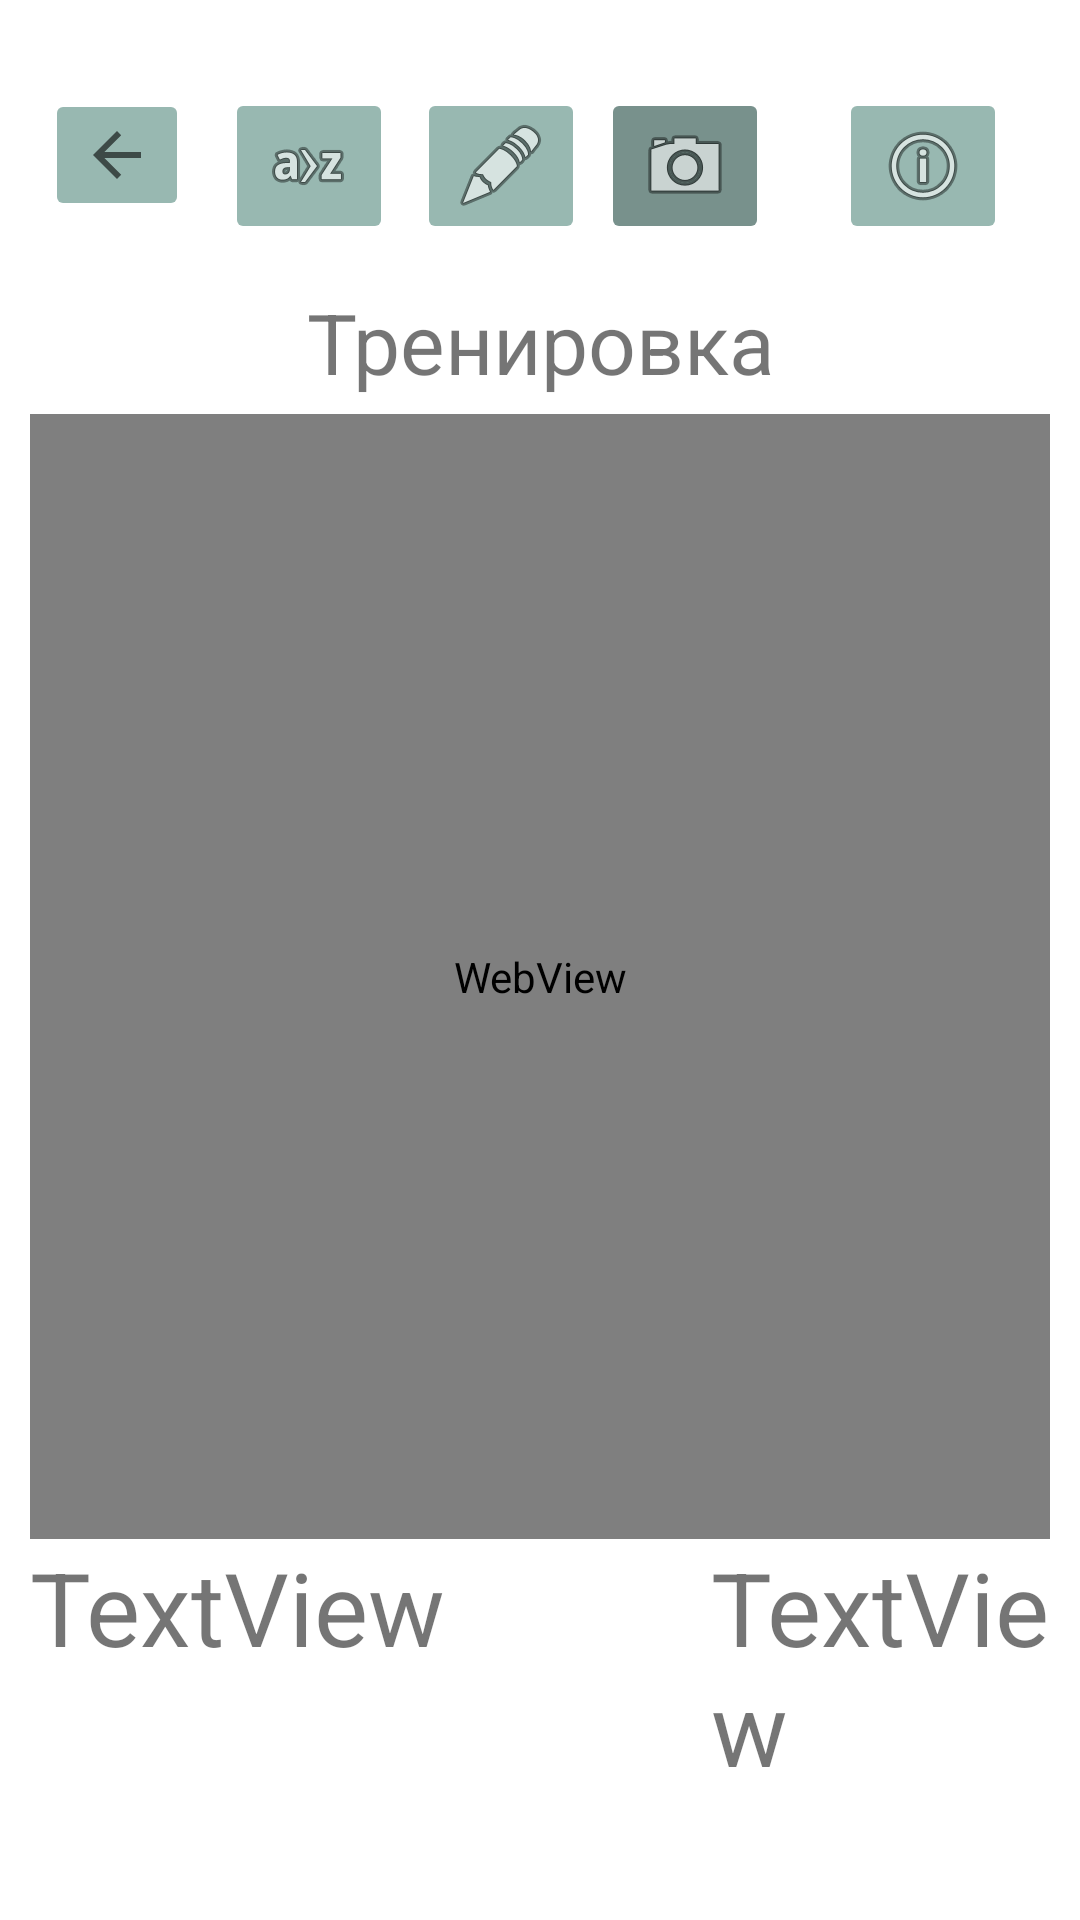

Icons on this 1080*1920 Android screen, each with its box as (x1, y1, x2, y2):
camera: (613, 106, 757, 226)
edit: (429, 106, 573, 226)
info details: (851, 106, 995, 226)
sort alphabetically: (237, 106, 381, 226)
